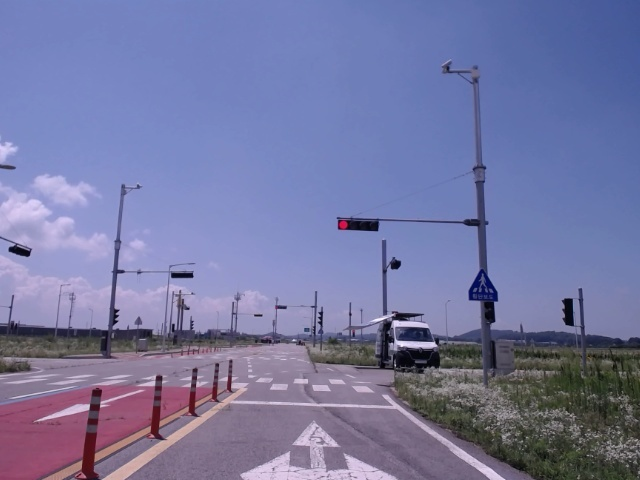red_4: (338, 220, 379, 232)
